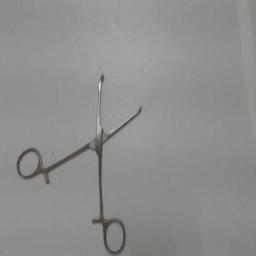Allis Tissue Forceps: (13, 70, 149, 256)
